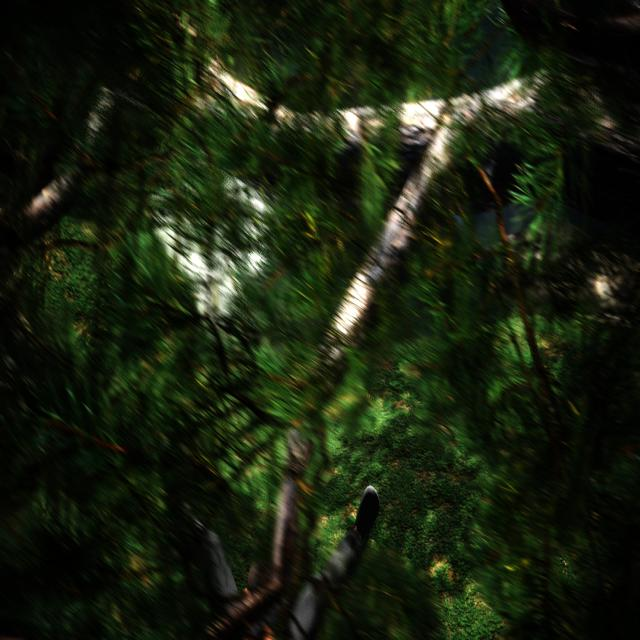Human: (152, 437, 383, 640)
